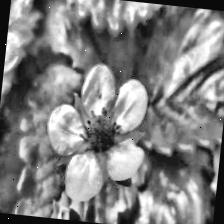Blossom Blight: (76, 104, 124, 163)
